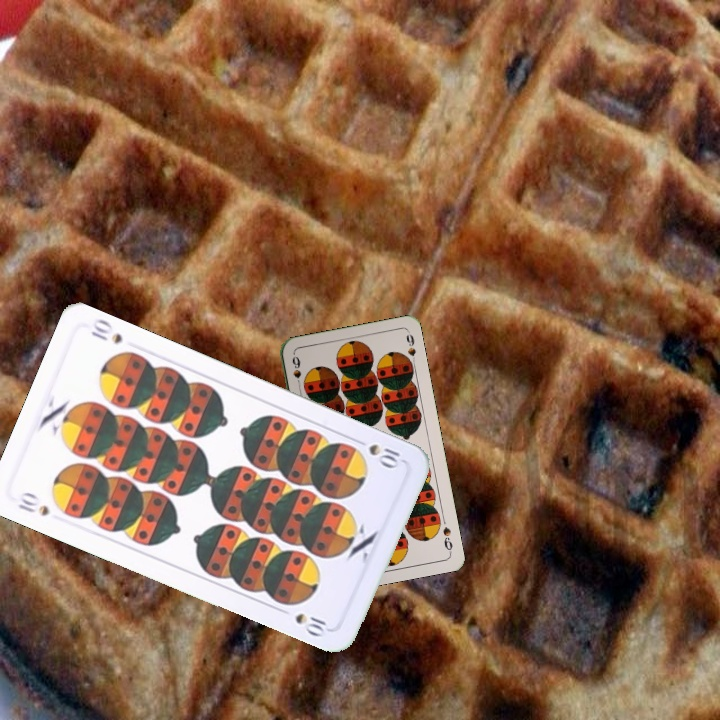S10: (364, 439, 405, 472), (14, 488, 52, 519)
S9: (288, 353, 304, 392), (439, 523, 455, 555)
